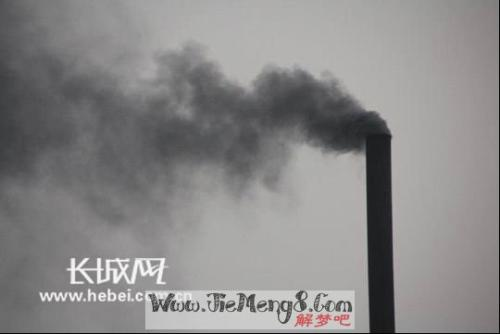smoke: (160, 58, 393, 154)
